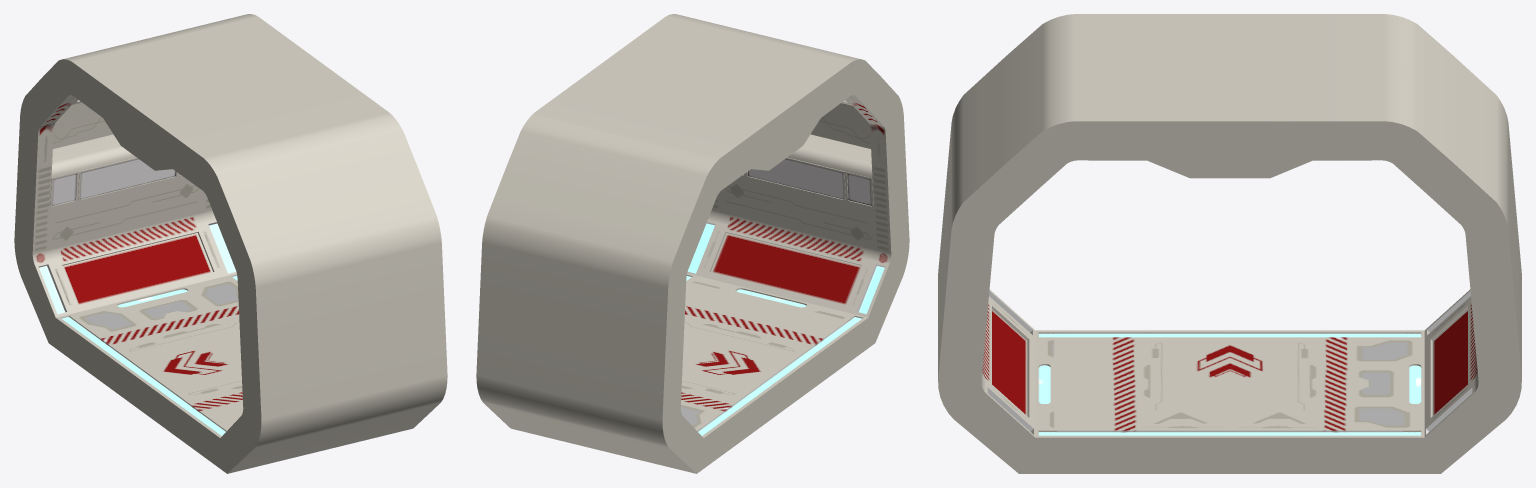
Rendered from SM_CoridorWall.fbx.
3 renders of one model, left to right at view 1: azimuth 30°, elevation 25°; view 2: azimuth 150°, elevation 25°; view 3: azimuth 270°, elevation 25°, orthographic. The views are drawn at different scales.
Parts seen in each view (by area): view 1: SM_CoridorWall_LOD0; view 2: SM_CoridorWall_LOD0; view 3: SM_CoridorWall_LOD0.
Boxes of the visible parts, x1,y1,x2,y2 form: SM_CoridorWall_LOD0: (14,14,447,473); SM_CoridorWall_LOD0: (476,14,909,473); SM_CoridorWall_LOD0: (938,14,1521,473).
Size of the model in its own units: 216 by 332 by 498.
1 material, 1 textured.
